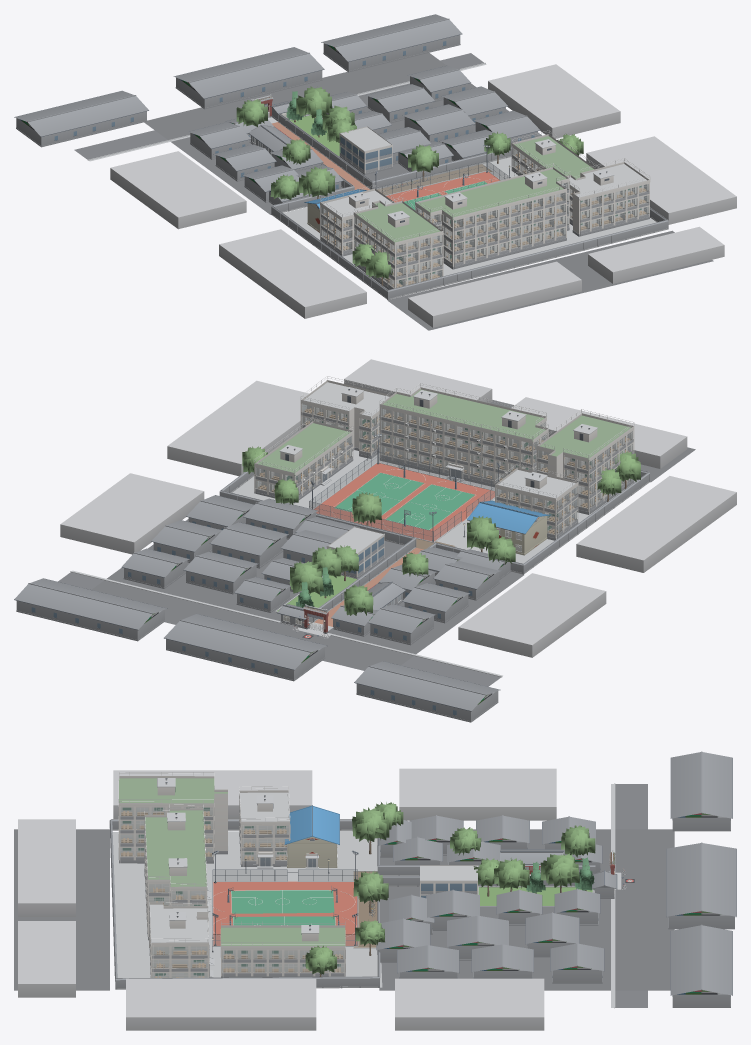
File: east-campus.glb
3 renders of one model, top to bottom at view 1: azimuth 30°, elevation 25°; view 2: azimuth 150°, elevation 25°; view 3: azimuth 270°, elevation 25°, orthographic. The views are drawn at different scales.
Parts seen in each view (by area): view 1: Context_East, Campus_Ground_East, E-B1, E-B2, E-B3, E-N1, E-B4, E-P1, E-B5; view 2: Context_East, Campus_Ground_East, E-B1, E-P1, E-B4, E-B2, E-B5, E-N1, E-B3, E-G1; view 3: Context_East, Campus_Ground_East, E-P1, E-B4, E-B2, E-N1, E-B1, E-B5, E-B3, E-G1.
Boxes of the visible parts, <box> form: Context_East: <box>14,14,736,327</box>; Campus_Ground_East: <box>74,53,713,330</box>; E-B1: <box>415,163,569,269</box>; E-B2: <box>353,197,443,289</box>; E-B3: <box>563,158,650,236</box>; E-N1: <box>236,86,358,164</box>; E-B4: <box>304,185,397,256</box>; E-P1: <box>373,145,510,209</box>; E-B5: <box>511,130,599,180</box>; Context_East: <box>14,359,736,722</box>; Campus_Ground_East: <box>58,400,695,686</box>; E-B1: <box>379,383,548,486</box>; E-P1: <box>309,434,499,542</box>; E-B4: <box>467,463,578,555</box>; E-B2: <box>536,409,634,514</box>; E-B5: <box>254,417,353,503</box>; E-N1: <box>275,545,428,615</box>; E-B3: <box>300,376,395,458</box>; E-G1: <box>277,604,328,638</box>; Context_East: <box>18,751,736,1030</box>; Campus_Ground_East: <box>14,783,674,1008</box>; E-P1: <box>210,850,358,946</box>; E-B4: <box>239,786,339,869</box>; E-B2: <box>118,772,228,863</box>; E-N1: <box>450,825,595,906</box>; E-B1: <box>144,804,211,940</box>; E-B5: <box>220,921,345,977</box>; E-B3: <box>149,902,214,977</box>; E-G1: <box>592,850,634,898</box>.
Size of the model in its own units: 149 by 18.54 by 175.
57 materials, 5 textured.
